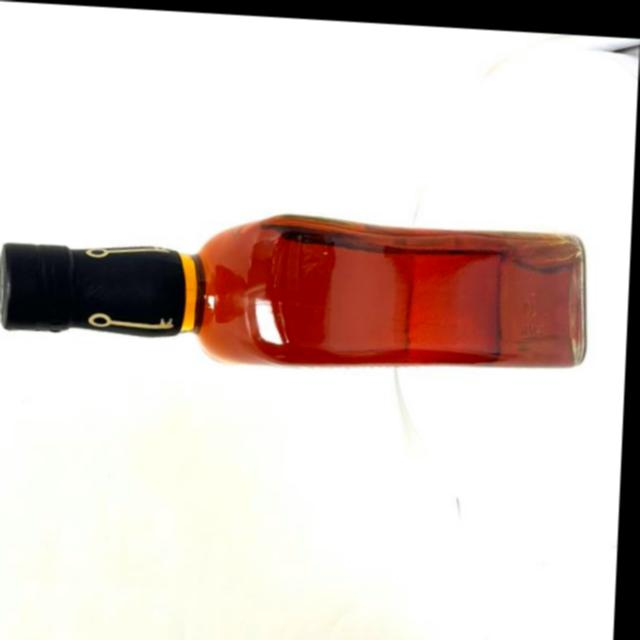LARCENY BARREL PROOF 750ML: (0, 181, 603, 394)
